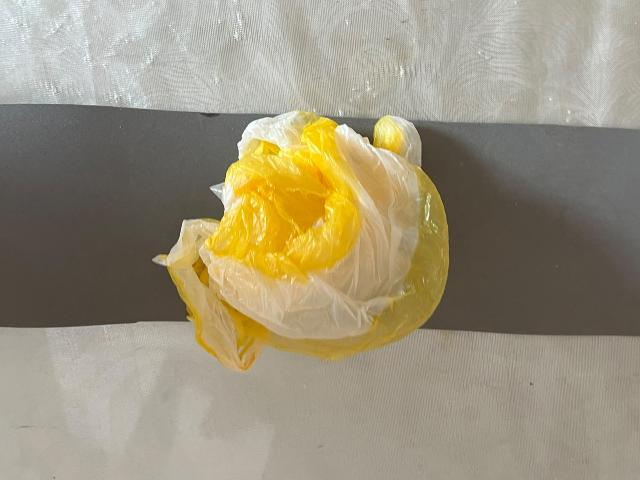LDPE: (144, 56, 556, 398)
